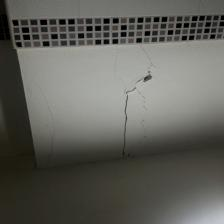Medium: (104, 55, 169, 152)
